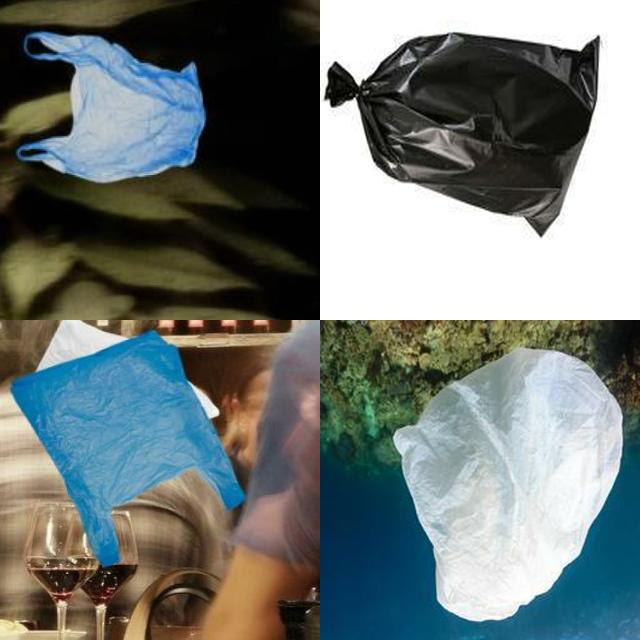Single-layer Plastic: (394, 349, 622, 621), (326, 32, 598, 234), (12, 331, 244, 566), (18, 32, 205, 182)
